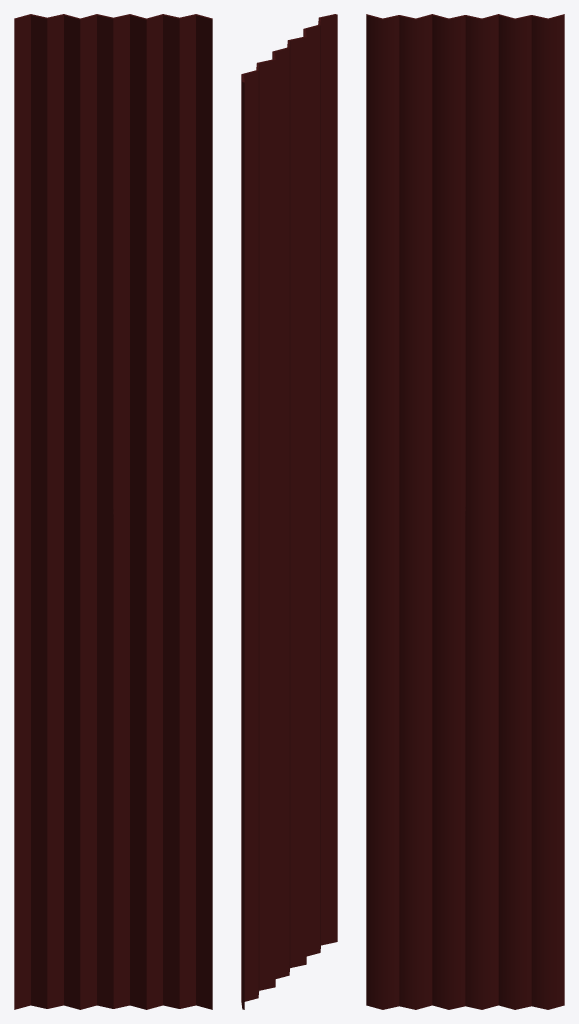
The model's file is curtains_open.fbx.
3 renders of one model, left to right at view 1: azimuth 90°, elevation 25°; view 2: azimuth 150°, elevation 25°; view 3: azimuth 270°, elevation 25°, orthographic. The views are drawn at different scales.
Parts seen in each view (by area): view 1: curtains_open; view 2: curtains_open; view 3: curtains_open.
Boxes of the visible parts, x1,y1,x2,y2 form: curtains_open: [14, 14, 212, 1009]; curtains_open: [241, 14, 337, 1009]; curtains_open: [366, 14, 564, 1009].
Size of the model in its own units: 1.85 by 148 by 26.93.
